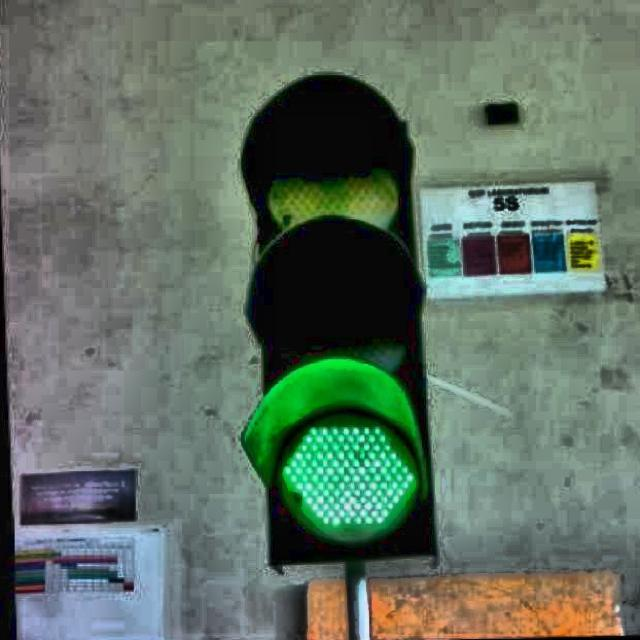green: (258, 88, 435, 565)
